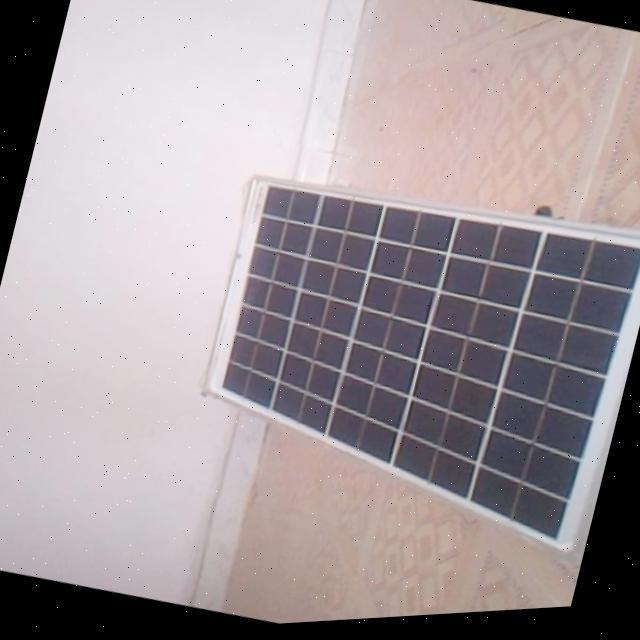Normal Solar Panel: (173, 142, 640, 581)
